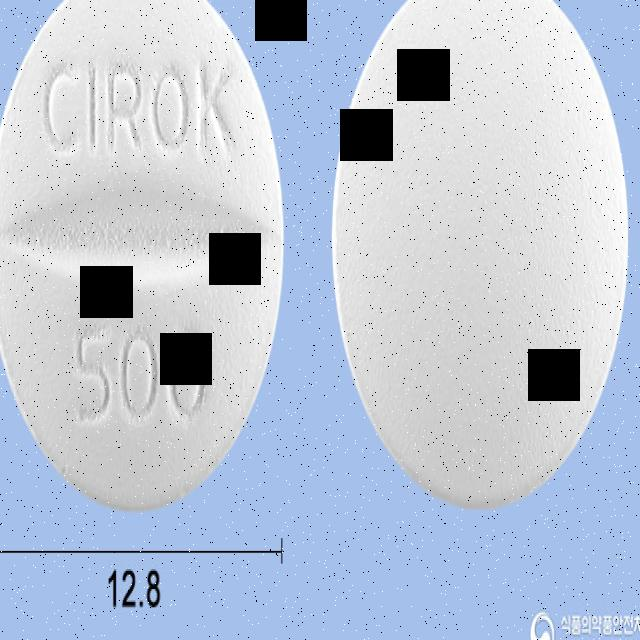Cirok -500mg: (0, 0, 290, 520)
